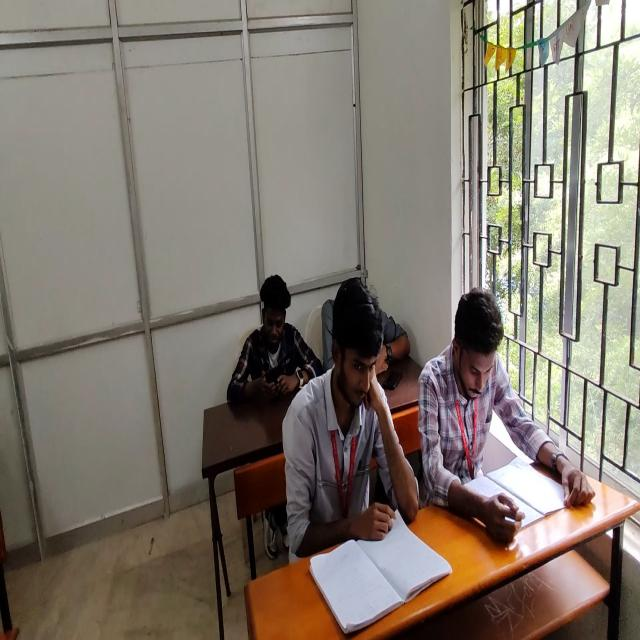reading: (427, 288, 597, 536), (280, 278, 411, 566)
sleeping: (320, 289, 406, 378)
using_mobile: (229, 274, 325, 404)
